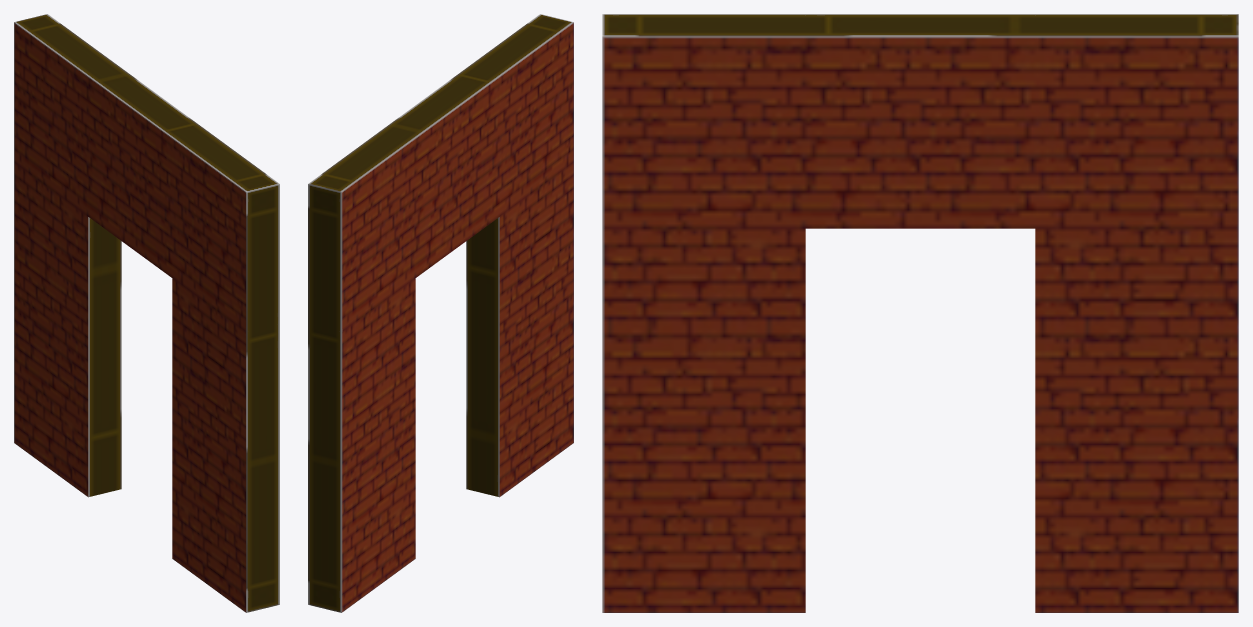
Rendered from Wallb_Door_13.fbx.
The picture shows the model from 3 angles, left to right: view 1: azimuth 30°, elevation 25°; view 2: azimuth 150°, elevation 25°; view 3: azimuth 270°, elevation 25°; orthographic projection. The views are drawn at different scales.
Parts seen in each view (by area): view 1: Wallb_Door_13; view 2: Wallb_Door_13; view 3: Wallb_Door_13.
Boxes of the visible parts, left/top/right/bottom form: Wallb_Door_13: left=14, top=14, right=279, bottom=612; Wallb_Door_13: left=308, top=14, right=573, bottom=612; Wallb_Door_13: left=602, top=14, right=1238, bottom=612.
Bounding box in the file's own units: 50 × 600 × 600.
